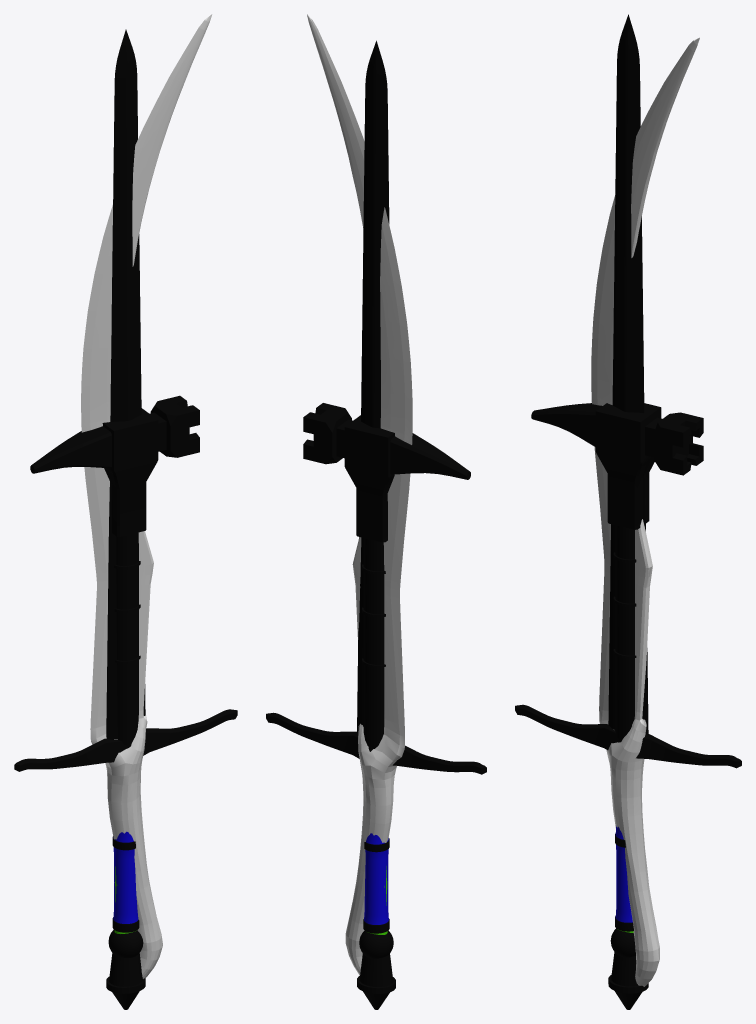
File: SwordPack_DS.fbx
3 views of the same model, side by side, from view 1: azimuth 30°, elevation 25°; view 2: azimuth 150°, elevation 25°; view 3: azimuth 330°, elevation 25° (orthographic). The views are drawn at different scales.
Parts seen in each view (by area): view 1: ElfSword_low, BroadSword_low, WarHammer_low; view 2: ElfSword_low, WarHammer_low, BroadSword_low; view 3: ElfSword_low, BroadSword_low, WarHammer_low.
Boxes of the visible parts, left/top/right/bottom form: ElfSword_low: left=81, top=14, right=212, bottom=978; BroadSword_low: left=14, top=29, right=237, bottom=957; WarHammer_low: left=30, top=395, right=199, bottom=1009; ElfSword_low: left=307, top=14, right=412, bottom=975; WarHammer_low: left=303, top=403, right=470, bottom=1009; BroadSword_low: left=266, top=40, right=486, bottom=958; ElfSword_low: left=591, top=37, right=699, bottom=986; BroadSword_low: left=515, top=14, right=741, bottom=957; WarHammer_low: left=531, top=403, right=703, bottom=1009.
Size of the model in its own units: 33.01 by 139 by 5.2.
